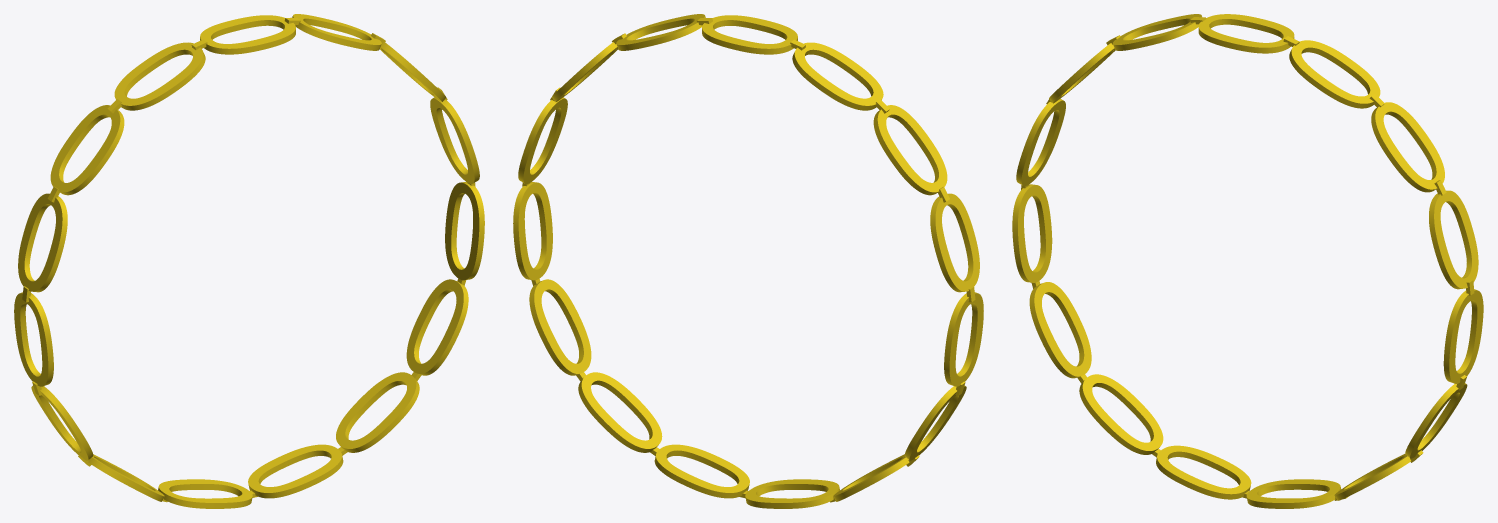
File: bracelet-1.glb
3 views of the same model, side by side, from view 1: azimuth 30°, elevation 25°; view 2: azimuth 150°, elevation 25°; view 3: azimuth 330°, elevation 25° (orthographic).
Visible parts, largest first — view 1: model; view 2: model; view 3: model.
Boxes of the visible parts, x1=… form: model: x1=14, y1=14, x2=484, y2=508; model: x1=513, y1=14, x2=983, y2=508; model: x1=1012, y1=14, x2=1483, y2=508.
Size of the model in its own units: 0.1031 by 0.1027 by 0.0128.
